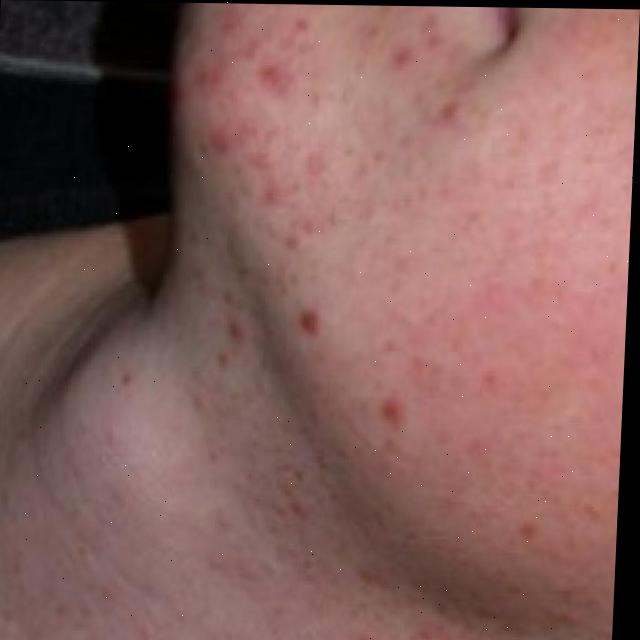Acne: (88, 2, 607, 622)
